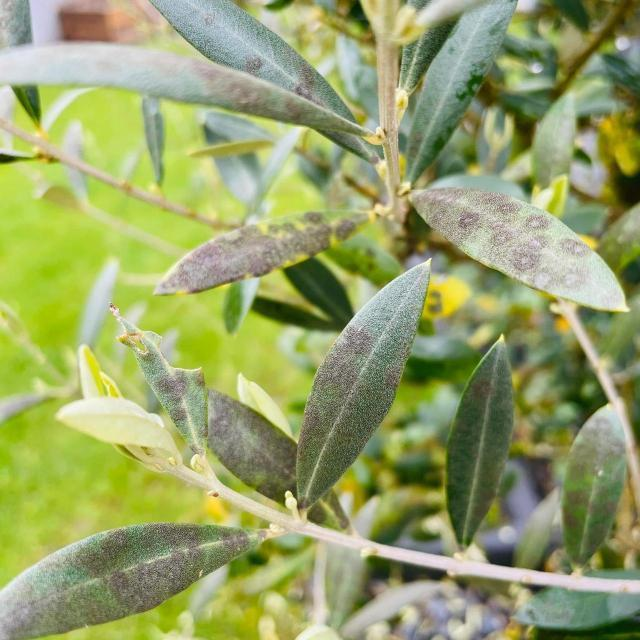OlivePeacockSpot: (0, 43, 363, 135), (296, 260, 429, 507), (0, 522, 269, 640), (409, 188, 627, 312), (154, 211, 372, 295), (446, 336, 514, 548), (562, 404, 627, 566), (208, 390, 297, 502)
